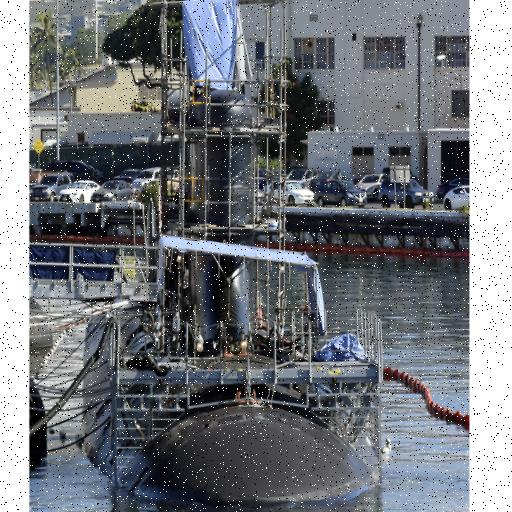submarine: (84, 94, 379, 506)
